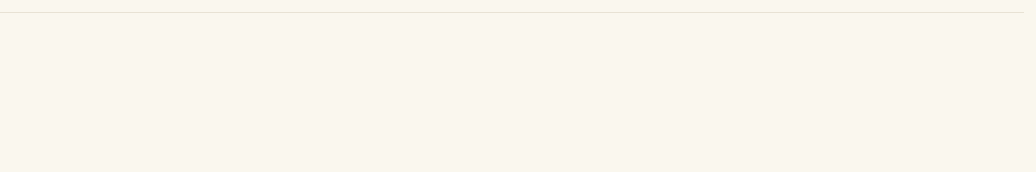
RuleEditor › Search & Replace › navigates between matches with prev/next buttons
Press f
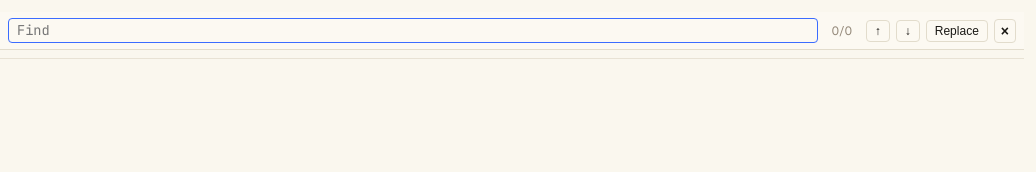
Type "localhost" into the field with test id "search-input" at (413, 30), box [8, 18, 818, 43]
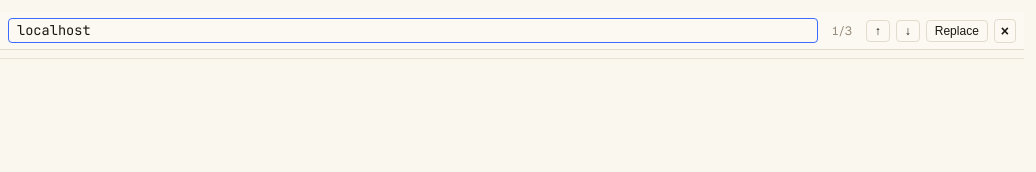
Now the text "1/3" is shown, box [832, 22, 852, 38]
Click the button with test id "next-button" at (908, 30), box [896, 20, 920, 42]
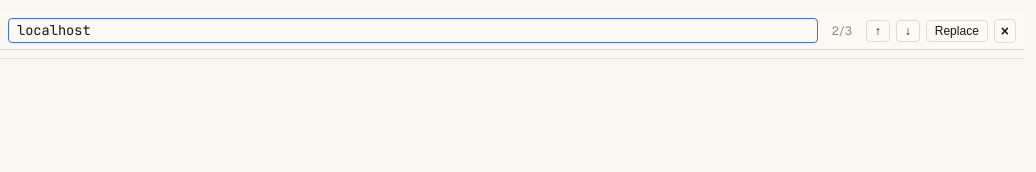
Now the text "2/3" is shown, box [832, 22, 852, 38]
Click the button with test id "next-button" at (908, 30), box [896, 20, 920, 42]
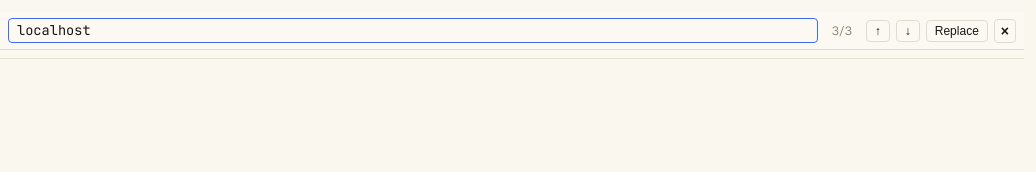
Now the text "3/3" is shown, box [832, 22, 852, 38]
Click the button with test id "next-button" at (908, 30), box [896, 20, 920, 42]
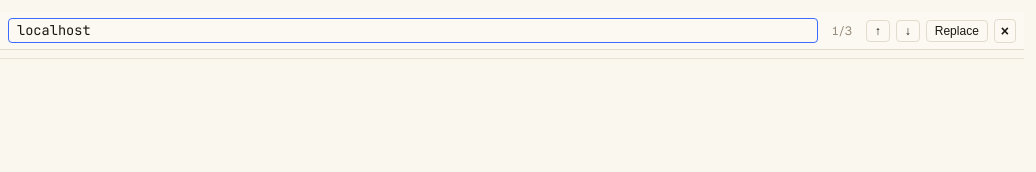
Now the text "1/3" is shown, box [832, 22, 852, 38]
Click the button with test id "prev-button" at (878, 30), box [866, 20, 890, 42]
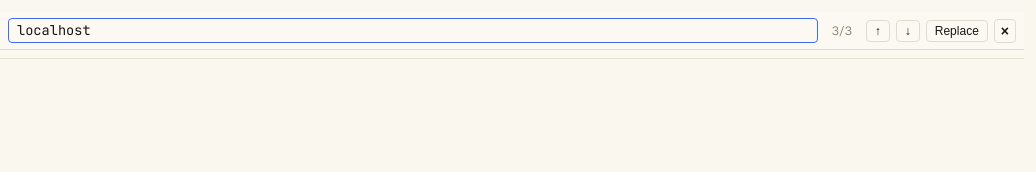
Now the text "3/3" is shown, box [832, 22, 852, 38]
